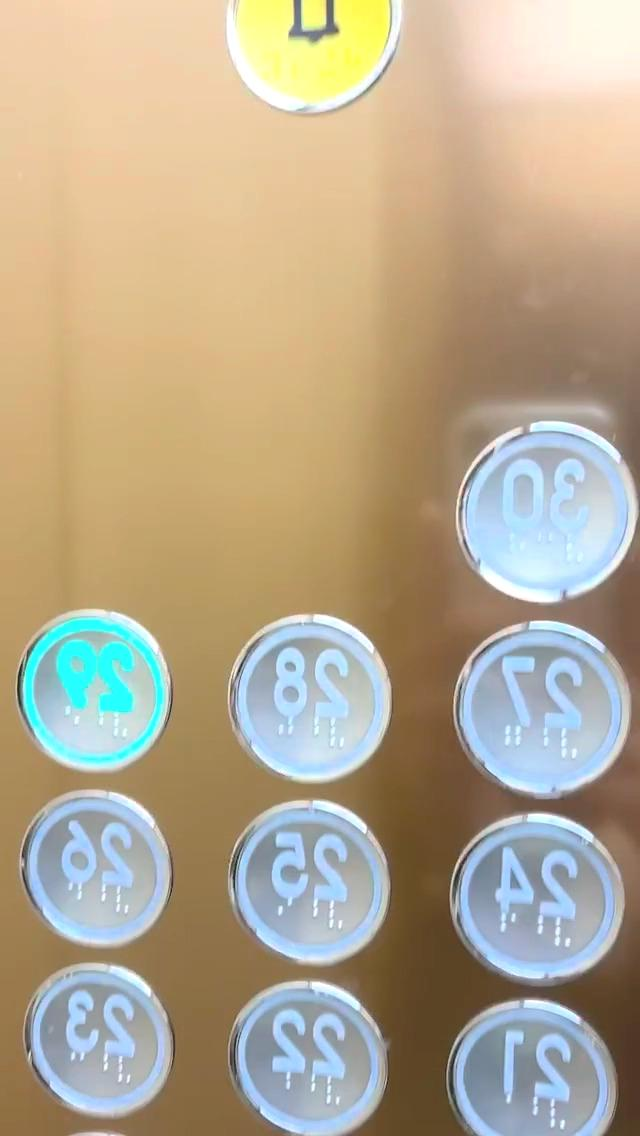button: (457, 634, 613, 797), (466, 434, 616, 601), (456, 831, 617, 986), (236, 617, 376, 789), (224, 983, 381, 1136), (23, 967, 174, 1126), (19, 797, 164, 950), (17, 621, 157, 773), (230, 820, 373, 967), (223, 1, 403, 116), (456, 1008, 603, 1136)
